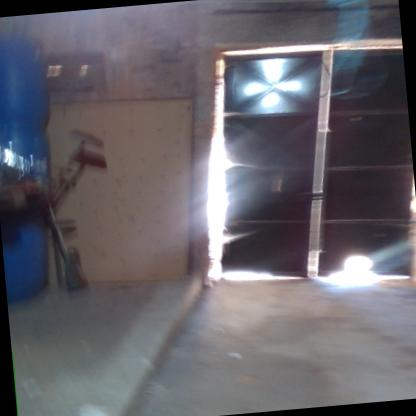closed: (194, 28, 415, 318)
